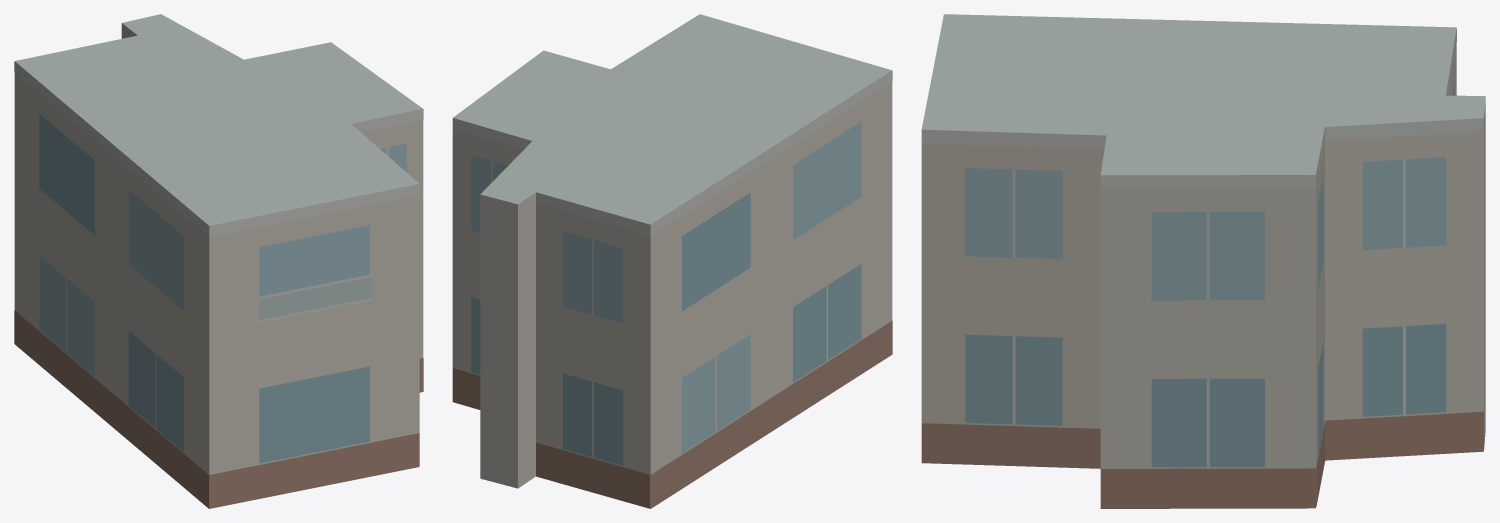
Rendered from survey-upis-32879039.glb.
3 renders of one model, left to right at view 1: azimuth 30°, elevation 25°; view 2: azimuth 150°, elevation 25°; view 3: azimuth 270°, elevation 25°, orthographic. The views are drawn at different scales.
Parts seen in each view (by area): view 1: survey-upis-32879039.tmp; view 2: survey-upis-32879039.tmp; view 3: survey-upis-32879039.tmp.
Boxes of the visible parts, x1,y1,x2,y2 form: survey-upis-32879039.tmp: [14, 14, 423, 508]; survey-upis-32879039.tmp: [452, 14, 892, 508]; survey-upis-32879039.tmp: [921, 14, 1485, 508].
Size of the model in its own units: 6.34 by 6.1 by 9.36.
